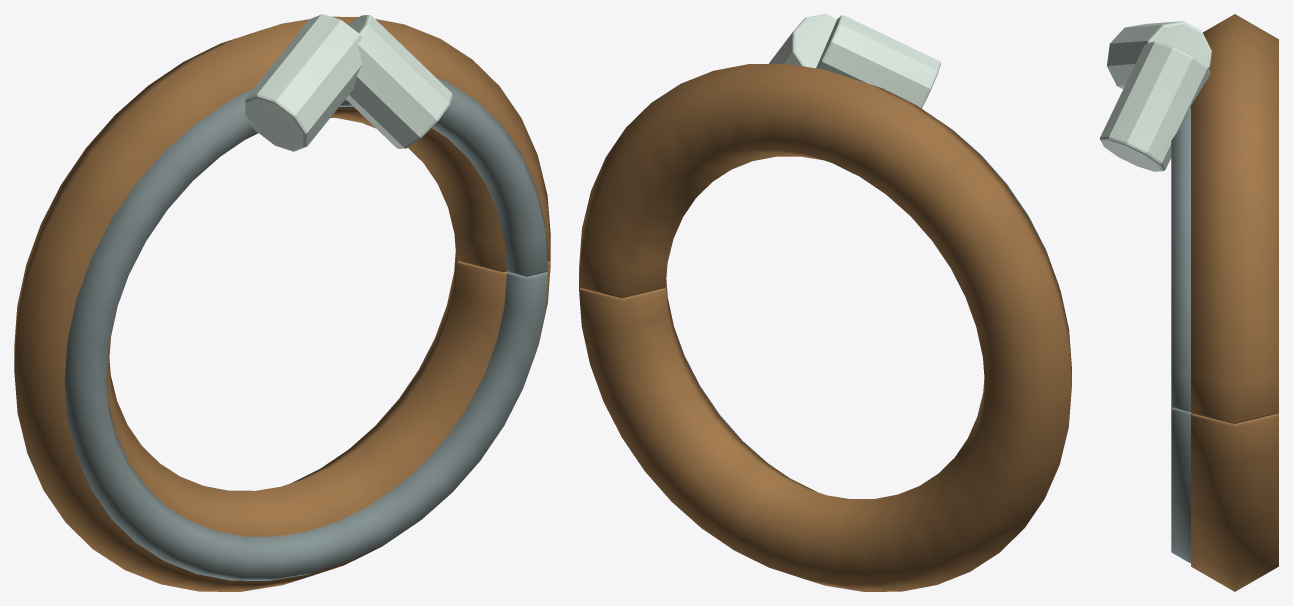
The model's file is item_015.glb.
The picture shows the model from 3 angles, left to right: view 1: azimuth 30°, elevation 25°; view 2: azimuth 150°, elevation 25°; view 3: azimuth 270°, elevation 25°; orthographic projection. The views are drawn at different scales.
Visible parts, largest first — view 1: Item_015_wire_loop; view 2: Item_015_wire_loop; view 3: Item_015_wire_loop.
Part boxes in pixels (x1,y1,x2,y2): Item_015_wire_loop: (14,14,550,591); Item_015_wire_loop: (579,14,1071,591); Item_015_wire_loop: (1100,14,1278,591).
Bounding box in the file's own units: 0.3639 × 0.3812 × 0.1126.
